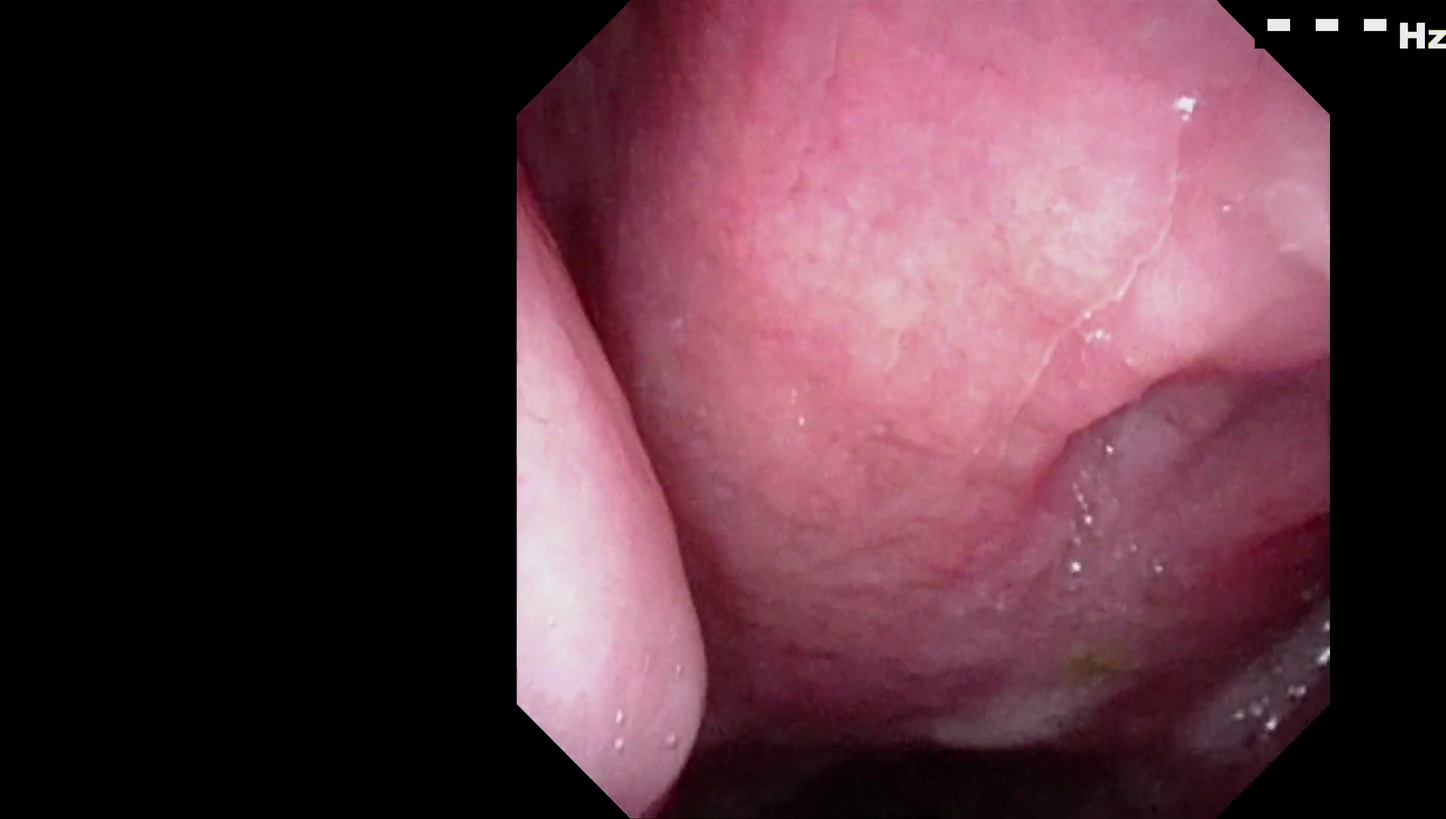close_wall: (527, 287, 743, 767)
next: (642, 689, 1120, 819)
